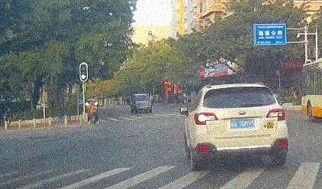L_light: (193, 112, 218, 125)
R_light: (266, 108, 286, 120)
T_light: (235, 88, 246, 90)
day-left: (191, 84, 288, 170)
